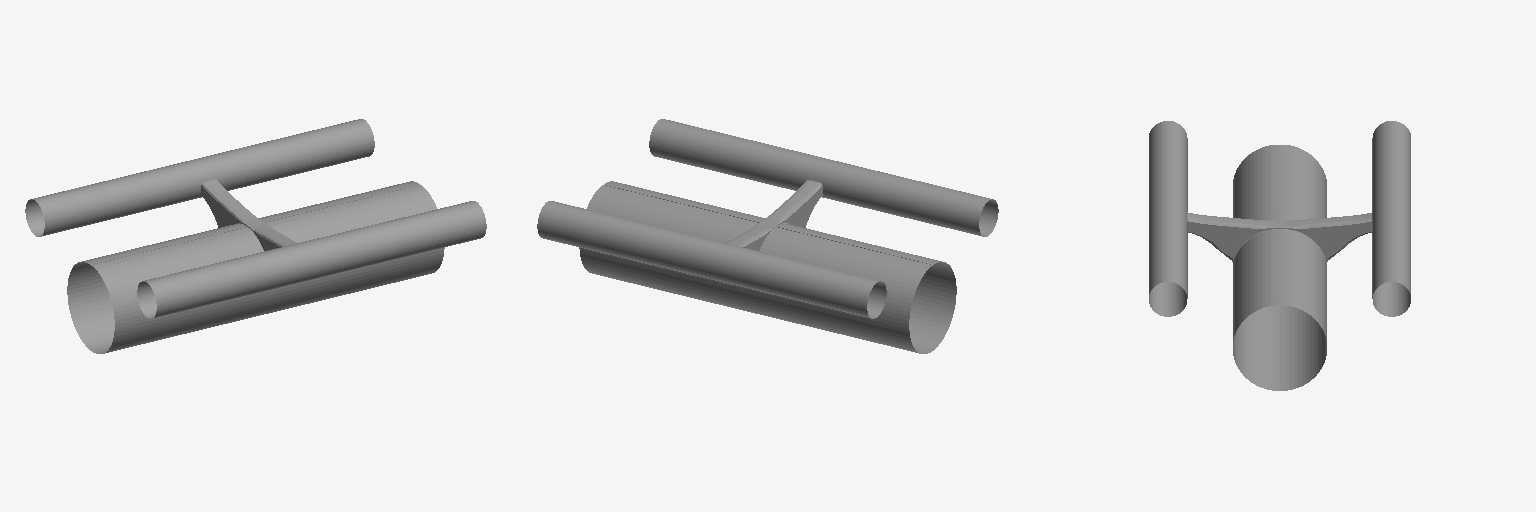
The model's file is tracks.obj.
3 views of the same model, side by side, from view 1: azimuth 30°, elevation 25°; view 2: azimuth 150°, elevation 25°; view 3: azimuth 270°, elevation 25° (orthographic).
Parts seen in each view (by area): view 1: Cylinder; view 2: Cylinder; view 3: Cylinder.
Part boxes in pixels (bbox=[...]): Cylinder: bbox=[25, 119, 486, 353]; Cylinder: bbox=[537, 119, 998, 353]; Cylinder: bbox=[1149, 121, 1410, 390].
Bounding box in the file's own units: 0.7802 × 0.2474 × 0.5378.